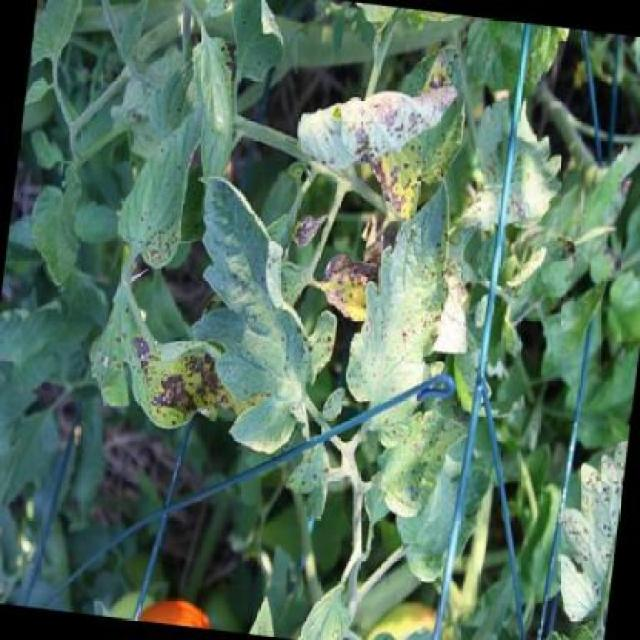Septoria leaf spot: (161, 172, 364, 462), (333, 168, 469, 454), (76, 286, 241, 457), (363, 37, 477, 243), (457, 75, 571, 279), (291, 63, 451, 197), (114, 88, 208, 280), (367, 418, 467, 507), (279, 437, 344, 534)
